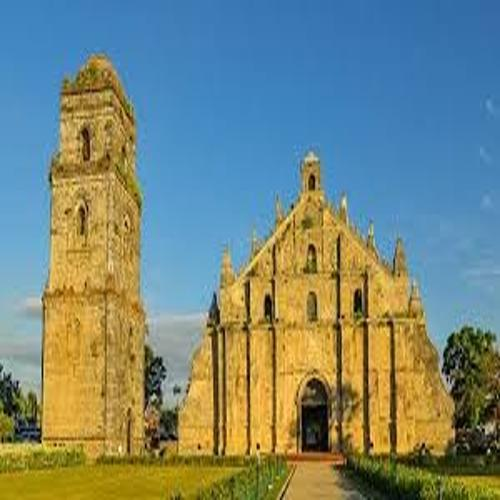Paoay Church: (28, 39, 464, 473)
